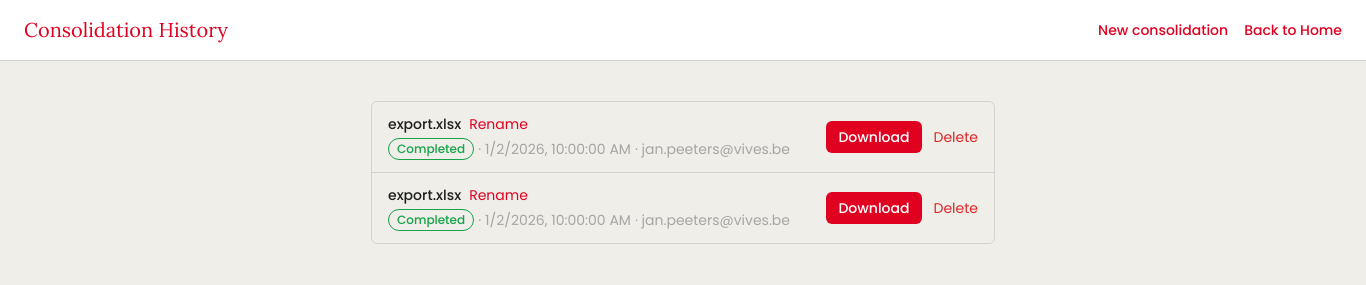
it: ConsolidationsHistoryView › shows a download error on the row it happened on
Click the 2nd button with test id "consolidation-history-download" at (874, 208), box [826,192,922,224]
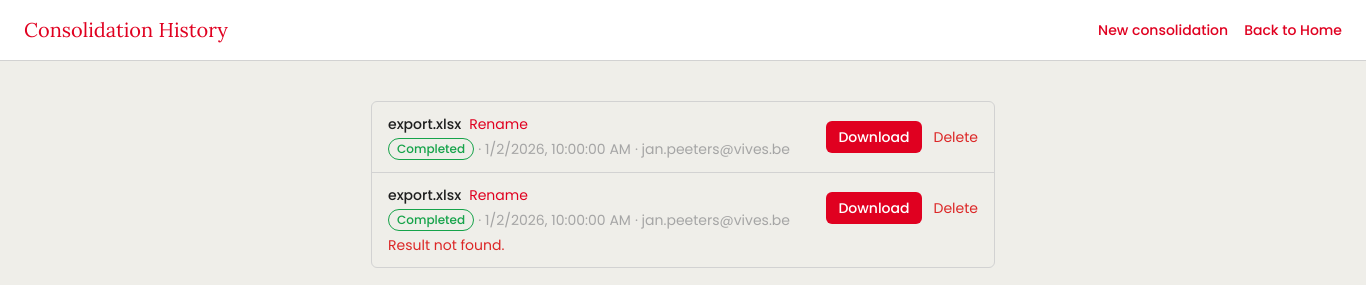
Check: the element with test id "consolidation-history-row" does not show "Result not found."
Check: the list item with test id "consolidation-history-row" shows "Result not found.", box [388,235,504,255]
